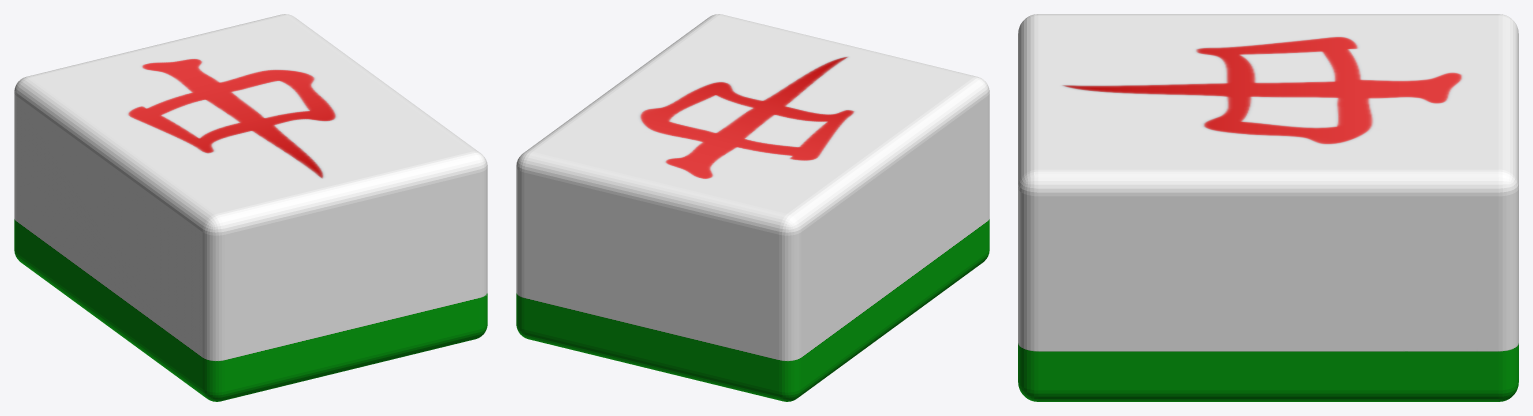
The model's file is tile-chun.glb.
The picture shows the model from 3 angles, left to right: view 1: azimuth 30°, elevation 25°; view 2: azimuth 150°, elevation 25°; view 3: azimuth 270°, elevation 25°; orthographic projection. The views are drawn at different scales.
Visible parts, largest first — view 1: Tile; view 2: Tile; view 3: Tile.
Boxes of the visible parts, left/top/right/bottom form: Tile: left=14, top=14, right=487, bottom=401; Tile: left=516, top=14, right=989, bottom=401; Tile: left=1018, top=14, right=1518, bottom=401.
Size of the model in its own units: 2 by 1.26 by 2.48.
Materials: 1 (1 with a texture image).
